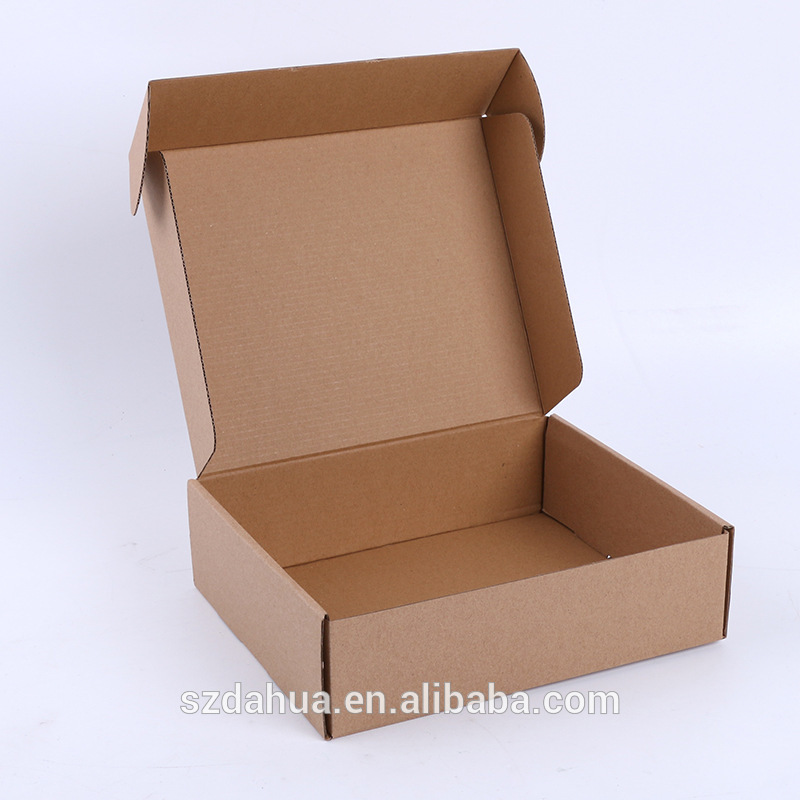Rec_Paper: (97, 30, 749, 732)
